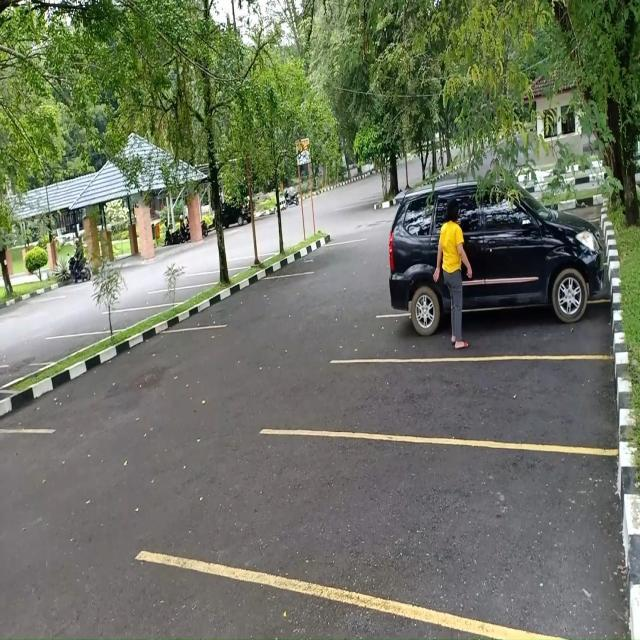empty: (304, 433, 618, 633), (342, 356, 615, 448), (219, 274, 308, 328), (10, 334, 90, 367), (88, 308, 146, 334), (146, 286, 202, 308)
occupied: (379, 247, 608, 361)
